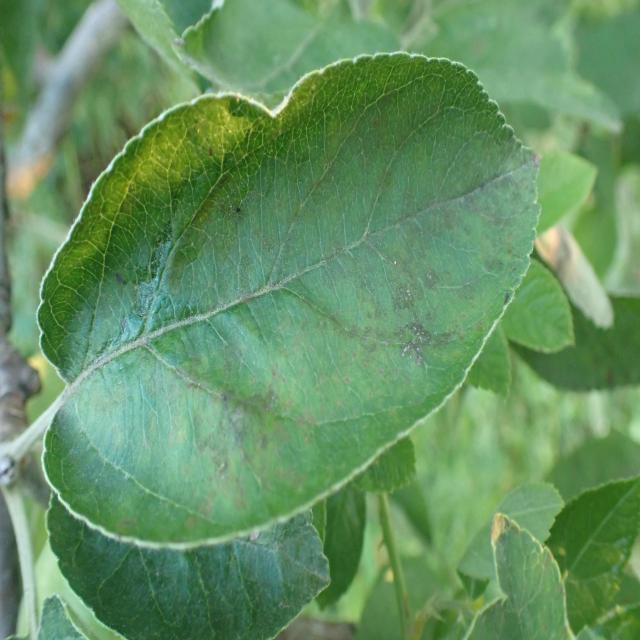scab: (89, 122, 528, 483)
